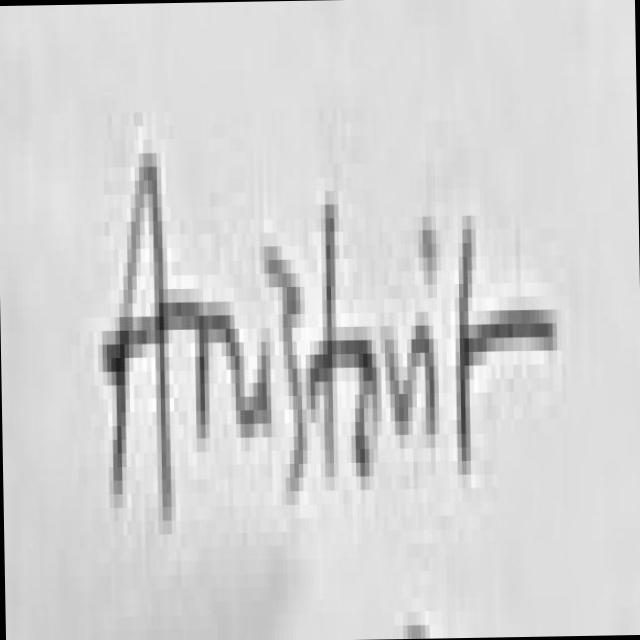A: (102, 153, 171, 534)
i: (248, 338, 276, 447), (424, 326, 438, 429), (423, 230, 440, 277)
o: (354, 355, 382, 476)
r: (177, 297, 253, 438)
s: (268, 246, 307, 484)
t: (460, 229, 542, 474), (306, 204, 358, 470)
v: (384, 325, 424, 434)
